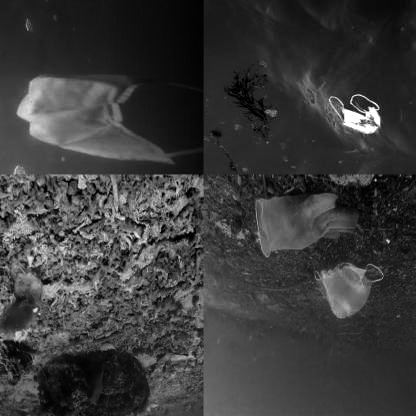Mask: (17, 61, 203, 164), (0, 260, 46, 358), (313, 262, 384, 322), (328, 90, 384, 135)
glove: (255, 192, 361, 260)
